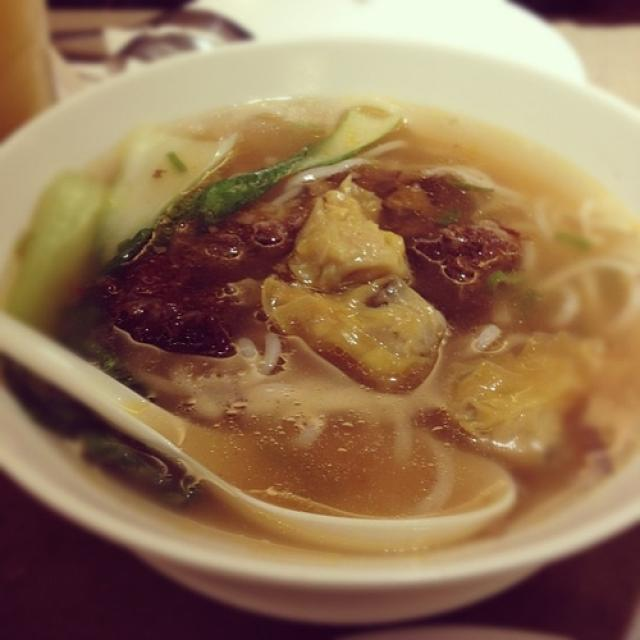汤锅炖物: (9, 20, 631, 608)
